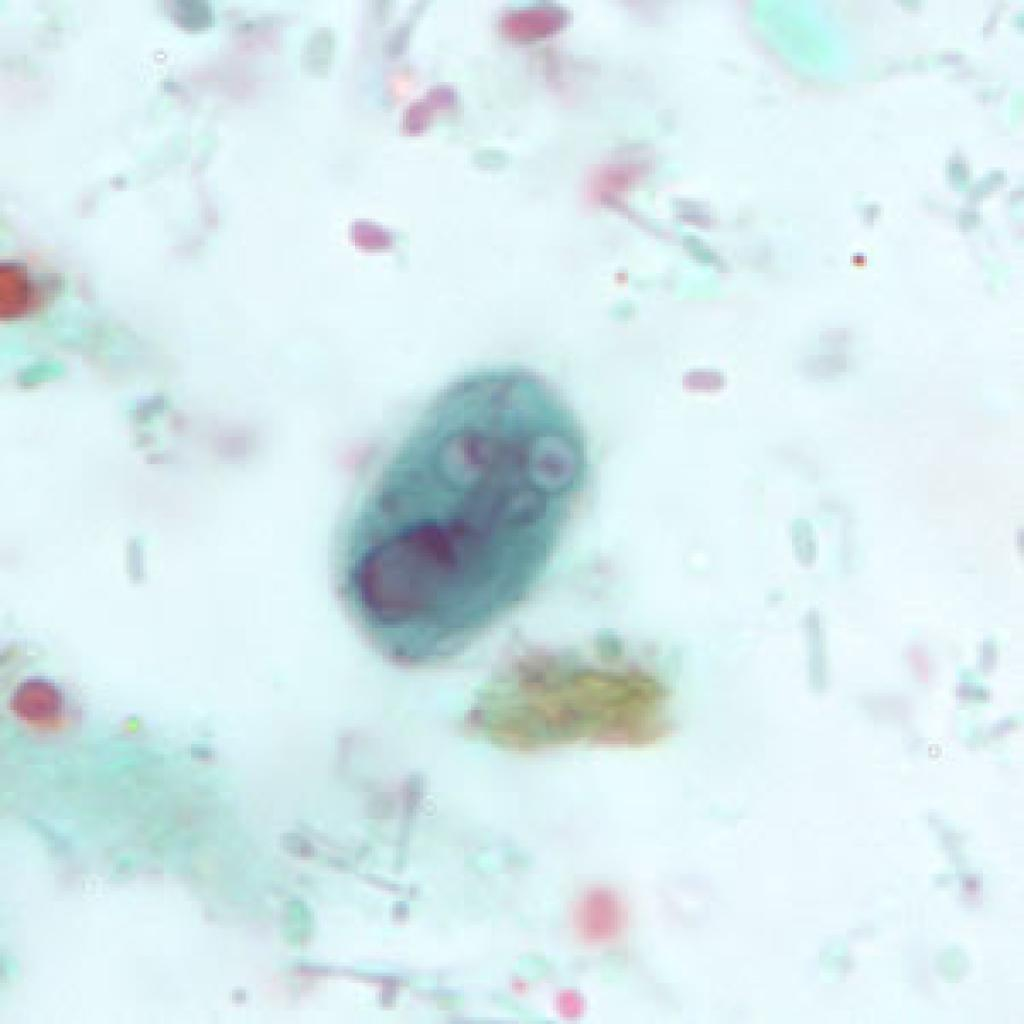Giardia: (321, 355, 597, 676)
